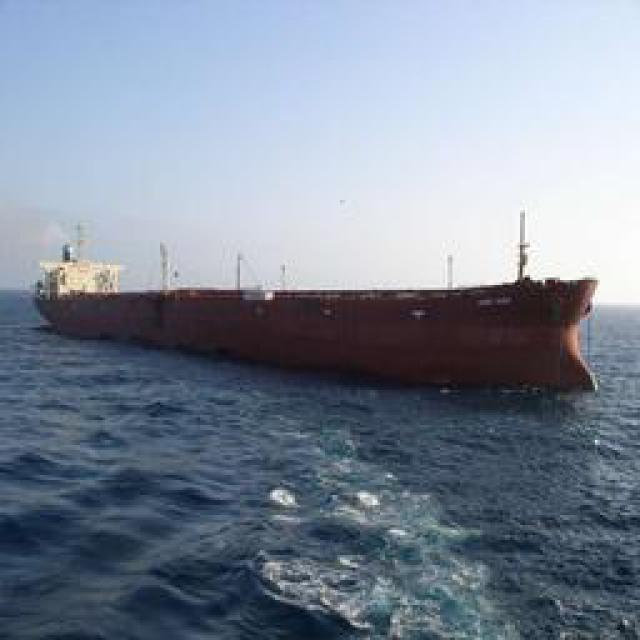Ship: (38, 277, 603, 390)
